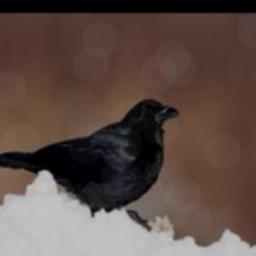Crow: (0, 99, 181, 235)
